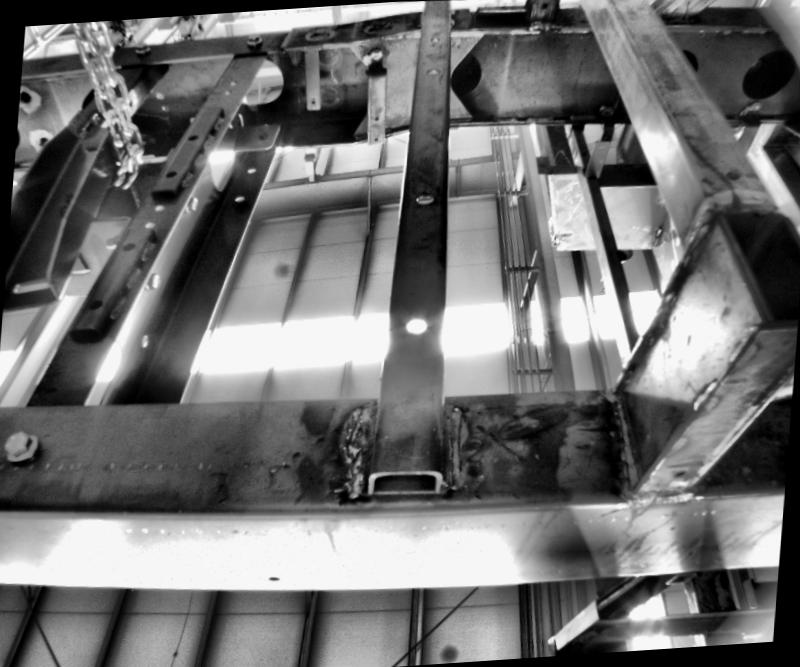bolt: (5, 428, 42, 461), (143, 270, 164, 292), (182, 190, 202, 213), (243, 30, 266, 48), (130, 40, 152, 58), (372, 47, 384, 58)
bracket: (359, 41, 392, 150), (228, 114, 282, 152), (299, 42, 327, 113), (580, 130, 618, 180)
hole: (216, 56, 288, 106), (401, 308, 432, 339), (412, 186, 438, 205), (119, 237, 136, 252), (724, 166, 742, 180), (139, 330, 152, 346), (88, 297, 103, 310), (21, 88, 34, 102), (674, 468, 686, 481), (426, 66, 442, 74), (186, 131, 199, 140), (255, 130, 267, 139), (144, 219, 156, 227), (268, 574, 280, 580), (166, 169, 176, 176), (236, 193, 244, 201), (154, 204, 164, 210), (598, 142, 608, 148), (248, 164, 256, 170), (431, 34, 440, 39), (224, 87, 232, 92), (312, 96, 318, 102), (232, 78, 238, 84), (542, 1, 548, 6), (374, 114, 379, 119), (374, 136, 380, 140)
welding: (436, 396, 480, 491), (341, 390, 365, 499)
